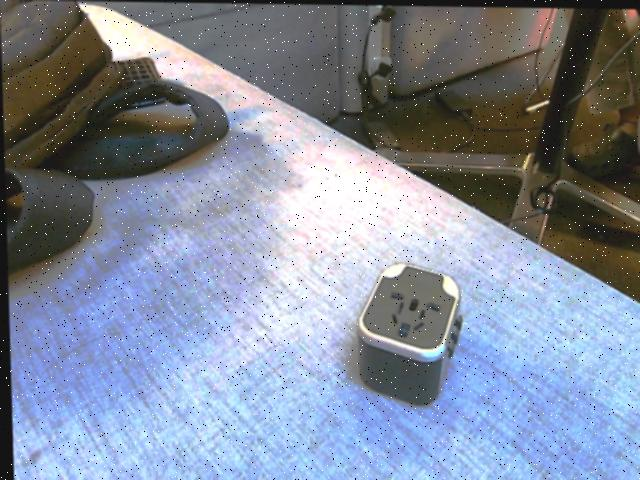adapter: (352, 261, 463, 405)
